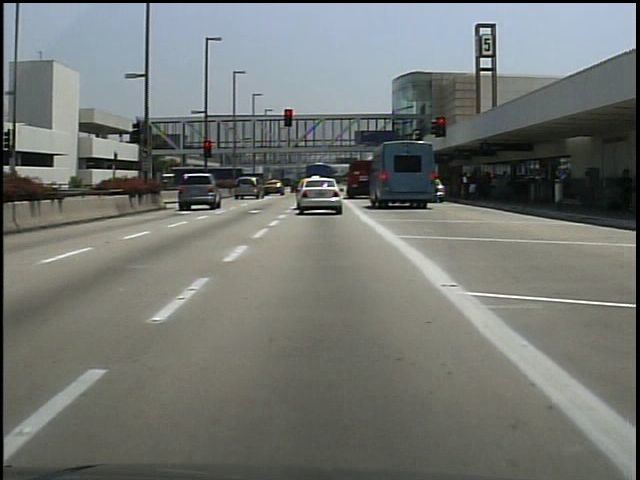person: (615, 167, 635, 221)
